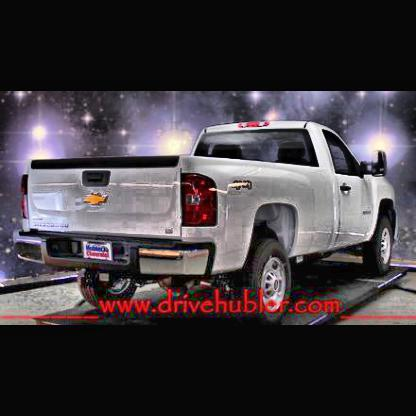Chevrolet Silverado 2500HD Regular Cab 2012: (12, 124, 400, 317)
